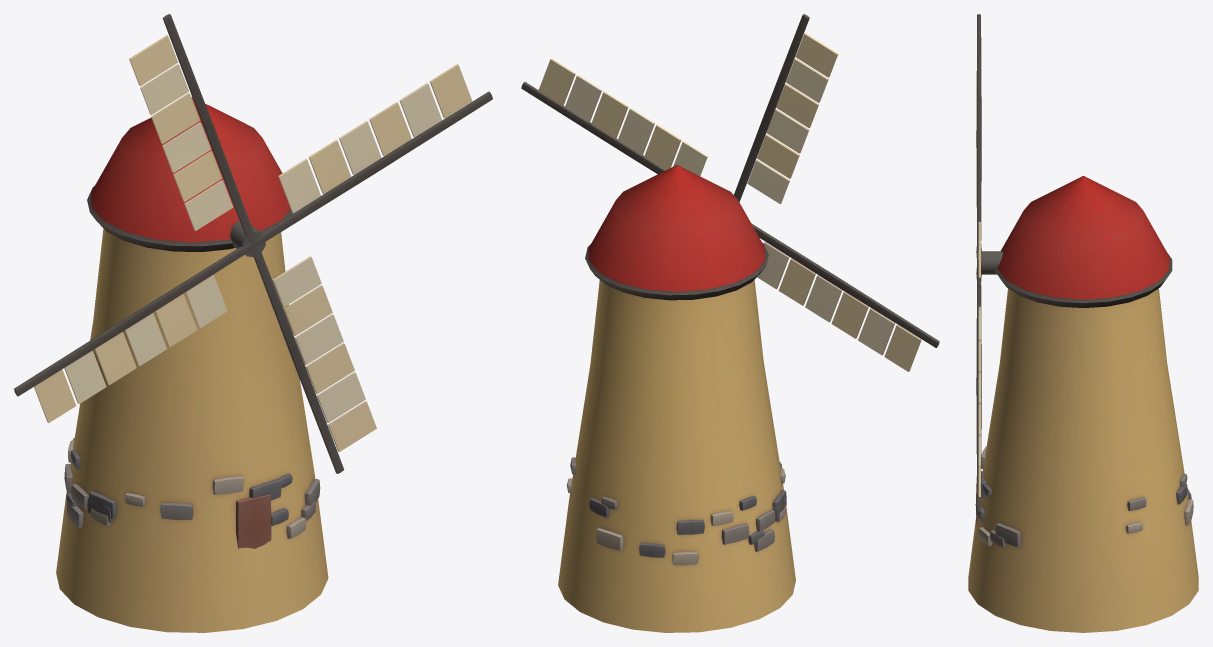
File: windmill.glb
3 views of the same model, side by side, from view 1: azimuth 30°, elevation 25°; view 2: azimuth 150°, elevation 25°; view 3: azimuth 270°, elevation 25° (orthographic). The views are drawn at different scales.
Parts seen in each view (by area): view 1: main; view 2: main; view 3: main.
Part boxes in pixels (x1=…): main: x1=14, y1=14, x2=492, y2=632; main: x1=521, y1=14, x2=939, y2=632; main: x1=968, y1=14, x2=1198, y2=632.
Bounding box in the file's own units: 17.8 × 22.3 × 8.71.
Materials: 2 (1 with a texture image).
